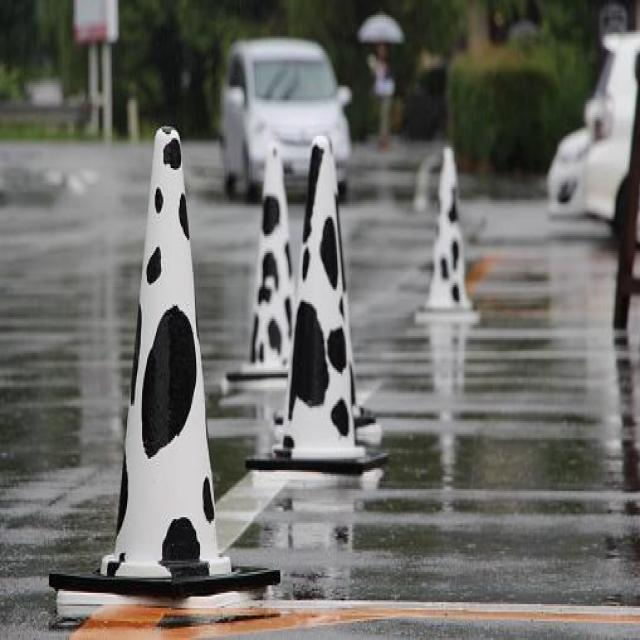Cone: (60, 128, 288, 604), (263, 136, 386, 481), (241, 138, 298, 383), (419, 146, 483, 330)
